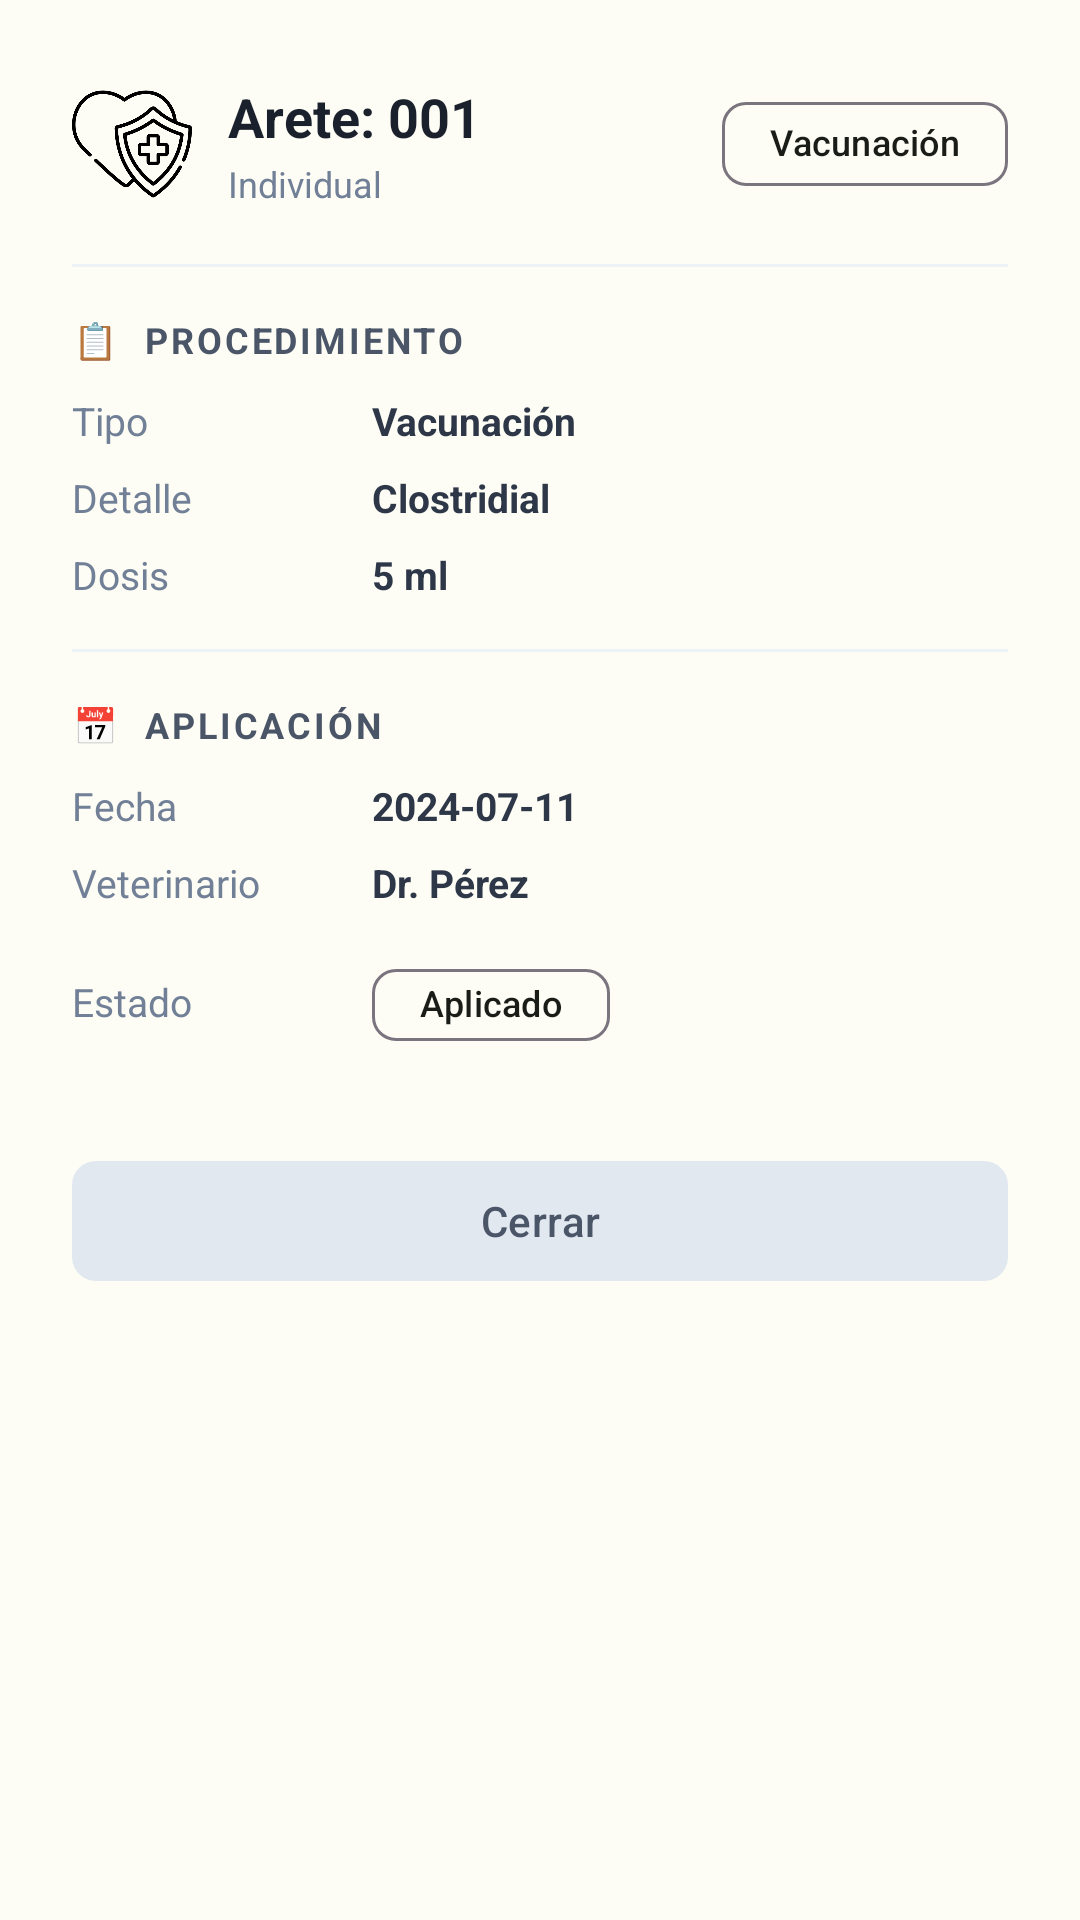

Where icons sit on this 1080×1920 app screen, as (x1, y1, x2, y2):
gestion sanitaria: (72, 90, 192, 198)
